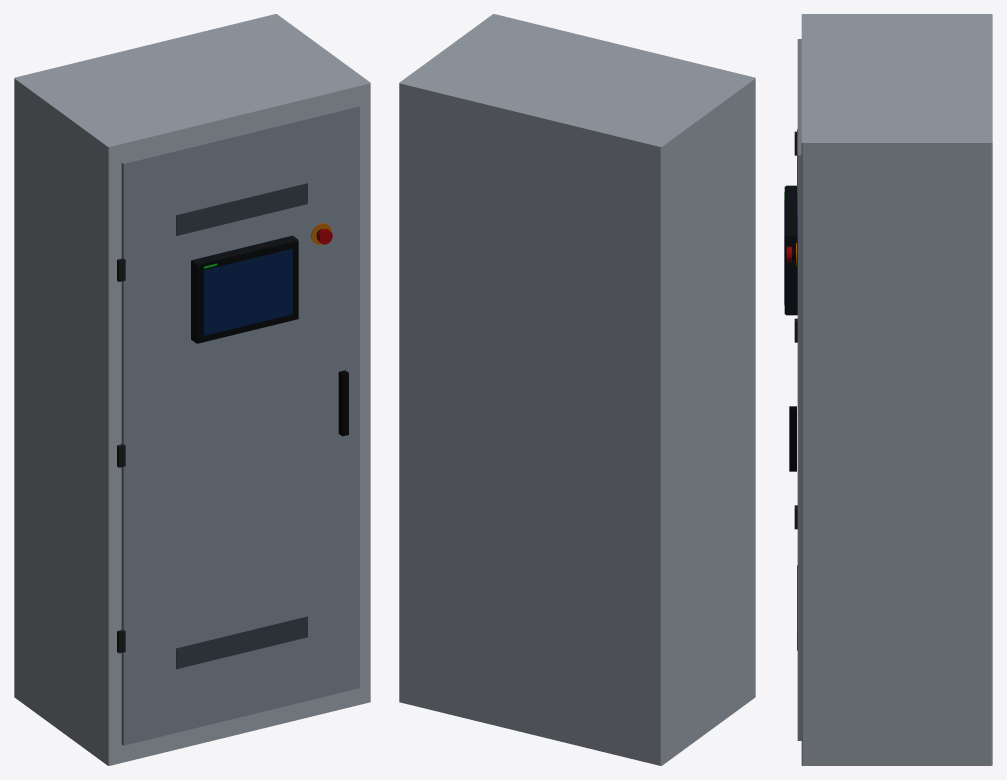
File: cabinet.glb
3 renders of one model, left to right at view 1: azimuth 30°, elevation 25°; view 2: azimuth 150°, elevation 25°; view 3: azimuth 270°, elevation 25°, orthographic.
Parts seen in each view (by area): view 1: cabinet, hmi; view 2: cabinet; view 3: cabinet, hmi.
Part boxes in pixels (<box>): cabinet: <box>14,14,370,765</box>; hmi: <box>191,235,298,343</box>; cabinet: <box>399,14,755,765</box>; cabinet: <box>789,14,992,765</box>; hmi: <box>784,185,797,315</box>.
Bounding box in the file's own units: 0.8 × 1.8 × 0.545.
